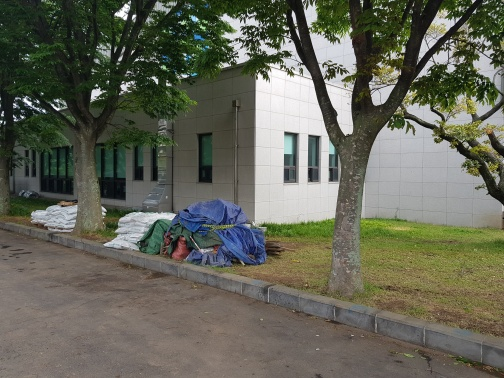Gym: (20, 50, 500, 227), (32, 136, 136, 203)
